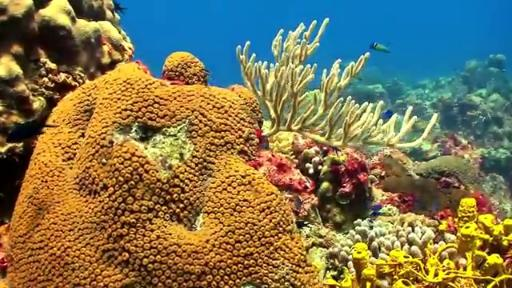Fish: (5, 120, 58, 143), (370, 43, 390, 53), (113, 0, 127, 14), (370, 204, 382, 217), (381, 109, 394, 120), (296, 220, 310, 228)
